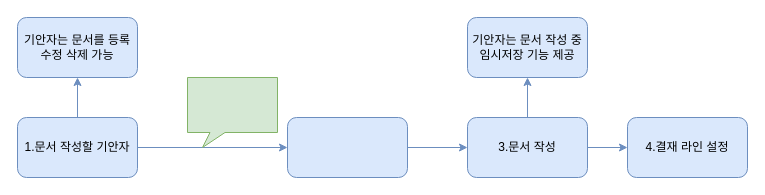
Some shapes in this 765 by 195 pixel diagram are drawn without their labels. The shapes that lost their labels are listed below. From the top down, each one's centre as x and y in pixels, then its label:
At point (232, 112): "문서함".
At point (347, 147): "2. 양식 선택".
